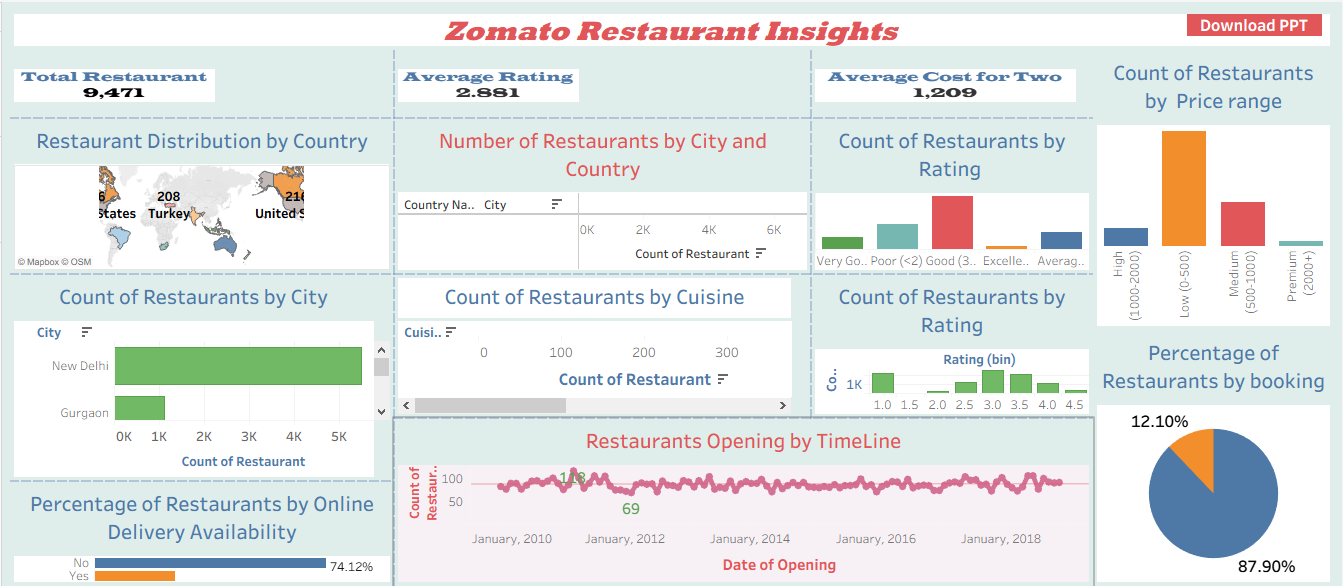

The dashboard page shown, as its layout file describes it:
{"tool":"tableau","page":{"name":"Dashboard","canvas":[1000,1000],"units":"permille","ordinal":0},"visuals":[{"type":"title","box":[6,13.5,988.1,67.6]},{"type":"dashboard-object","box":[884.6,20,100.8,37.5]},{"type":"worksheet","title":"kip","mark":"Automatic","box":[6,81.1,286.2,114]},{"type":"worksheet","title":"kip (2)","mark":"Automatic","box":[292.2,81.1,311.8,114]},{"type":"worksheet","title":"kip (3)","mark":"Automatic","box":[604,81.1,210.2,114]},{"type":"worksheet","title":"Q6","mark":"Automatic","rows":["RestaurantName"],"cols":["Calculation_1753307685272969217"],"box":[814.2,81.1,179.8,472.3]},{"type":"worksheet","title":" Q1","mark":"Multipolygon","box":[6,195.1,286.2,264.4]},{"type":"worksheet","title":"Q3 (2)","mark":"Bar","rows":["Country Name","City"],"cols":["RestaurantID"],"box":[292.2,195.1,311.8,264.4]},{"type":"worksheet","title":"Q5","mark":"Automatic","rows":["RestaurantName"],"cols":["Calculation_1753307685270855680"],"box":[604,195.1,210.2,264.4]},{"type":"worksheet","title":"Q9(2)","mark":"Automatic","rows":["City"],"cols":["RestaurantID"],"box":[6,459.5,286.4,350.3]},{"type":"worksheet","title":"Q9","mark":"Automatic","rows":["Cuisines"],"cols":["RestaurantID"],"box":[292.4,459.5,311.7,243.2]},{"type":"worksheet","title":"Q9(3)","mark":"Automatic","rows":["RestaurantID"],"cols":["Rating (bin)"],"box":[604.1,459.5,210.1,243.2]},{"type":"worksheet","title":"Q7","mark":"Pie","box":[814.2,553.4,179.8,433.1]},{"type":"worksheet","title":"Q4 (2)","mark":"Line","rows":["RestaurantID"],"cols":["Datekey_Opening"],"box":[292.4,702.7,521.8,283.8]},{"type":"worksheet","title":"Q8","mark":"Bar","rows":["Has_Online_delivery"],"cols":["RestaurantName"],"box":[6,809.8,286.4,176.7]}]}

Visuals, with their boxes on the dashboard's canvas, which has no fixed pixel size, in thousandths of its width and height (x1, y1, x2, y2). These are canvas units, not pixel positions in the 1343x586 screenshot, which may show the page scaled, cropped or inside an application window:
title: [x1=6, y1=14, x2=994, y2=81]
dashboard-object: [x1=885, y1=20, x2=985, y2=58]
"kip" worksheet: [x1=6, y1=81, x2=292, y2=195]
"kip (2)" worksheet: [x1=292, y1=81, x2=604, y2=195]
"kip (3)" worksheet: [x1=604, y1=81, x2=814, y2=195]
"Q6" worksheet: [x1=814, y1=81, x2=994, y2=553]
" Q1" worksheet (Multipolygon marks): [x1=6, y1=195, x2=292, y2=460]
"Q3 (2)" worksheet (Bar marks): [x1=292, y1=195, x2=604, y2=460]
"Q5" worksheet: [x1=604, y1=195, x2=814, y2=460]
"Q9(2)" worksheet: [x1=6, y1=460, x2=292, y2=810]
"Q9" worksheet: [x1=292, y1=460, x2=604, y2=703]
"Q9(3)" worksheet: [x1=604, y1=460, x2=814, y2=703]
"Q7" worksheet (Pie marks): [x1=814, y1=553, x2=994, y2=986]
"Q4 (2)" worksheet (Line marks): [x1=292, y1=703, x2=814, y2=986]
"Q8" worksheet (Bar marks): [x1=6, y1=810, x2=292, y2=986]
